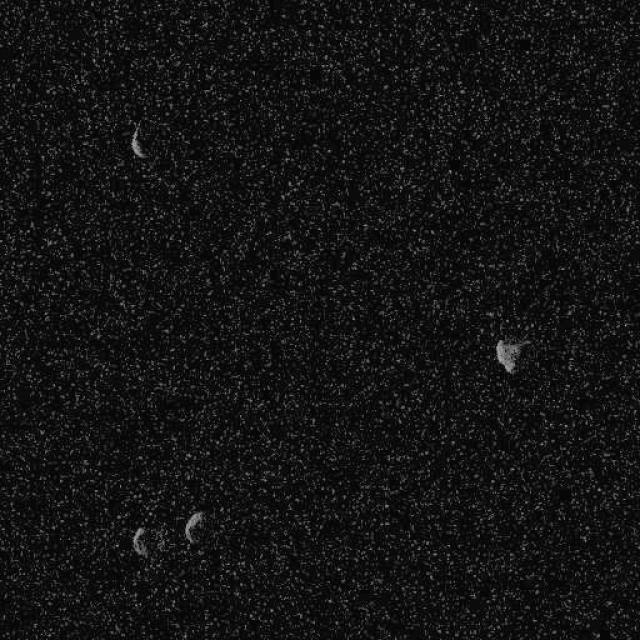D2: (494, 336, 530, 375), (129, 124, 150, 160), (182, 510, 204, 544), (130, 525, 148, 556)
